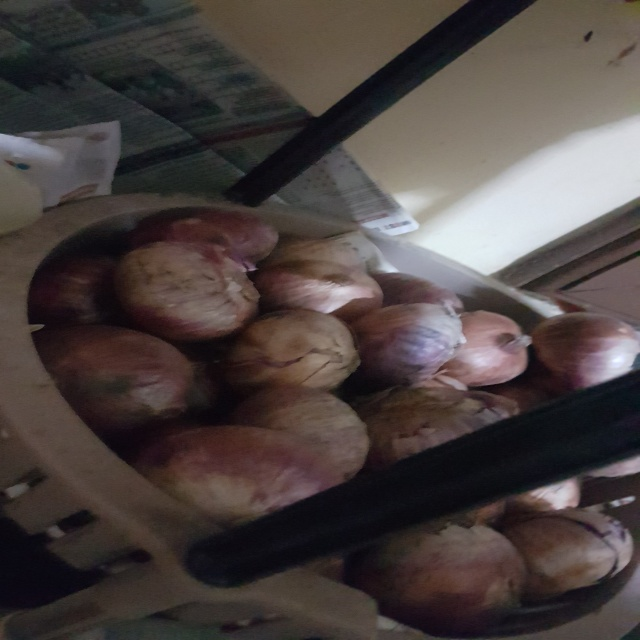onion: (136, 421, 357, 552), (29, 316, 213, 438), (370, 531, 540, 625), (115, 230, 266, 332), (223, 295, 365, 394), (333, 297, 478, 389), (504, 506, 638, 592), (520, 304, 640, 393), (442, 298, 536, 398)
